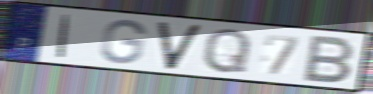7: (262, 33, 301, 76)
B: (300, 34, 357, 85)
G: (98, 17, 148, 65)
I: (55, 13, 73, 60)
Q: (201, 26, 253, 75)
V: (156, 21, 204, 71)
